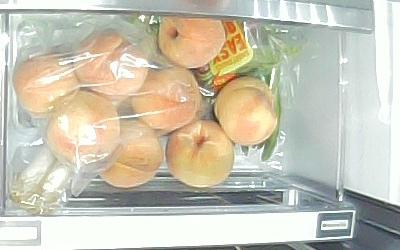peach: (167, 121, 233, 186), (214, 76, 277, 144), (98, 121, 163, 186), (157, 18, 225, 68)
peach_vinyl: (47, 90, 121, 163), (72, 28, 149, 94), (132, 69, 200, 130), (14, 54, 78, 115)
